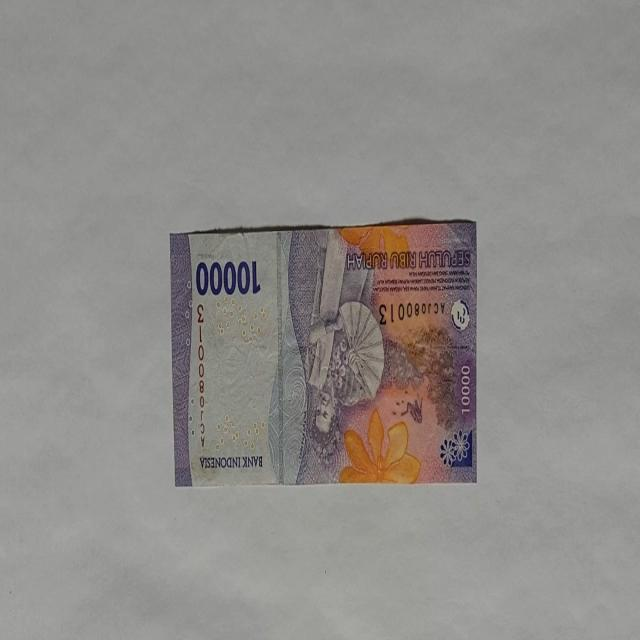sepuluh ribu rupiah: (169, 218, 478, 488), (194, 256, 262, 298)
